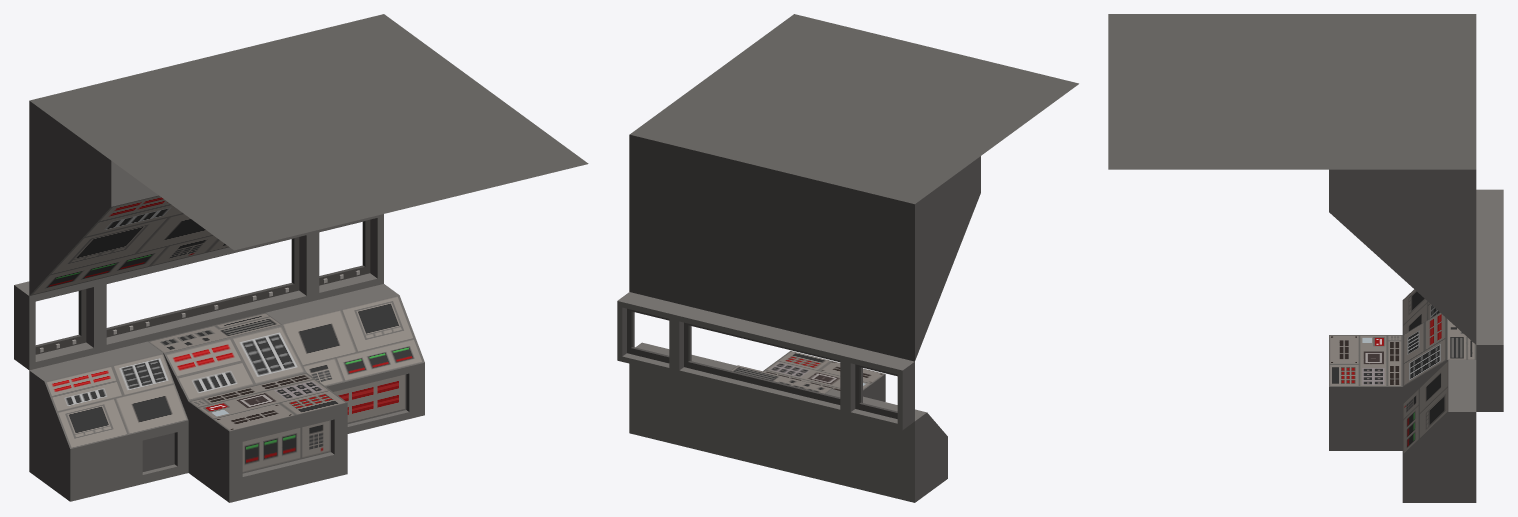
Rendered from KONSOL.fbx.
The picture shows the model from 3 angles, left to right: view 1: azimuth 30°, elevation 25°; view 2: azimuth 150°, elevation 25°; view 3: azimuth 270°, elevation 25°; orthographic projection. The views are drawn at different scales.
Parts seen in each view (by area): view 1: SM_Env_Consoles_01; view 2: SM_Env_Consoles_01; view 3: SM_Env_Consoles_01.
Boxes of the visible parts, x1=… form: SM_Env_Consoles_01: x1=14, y1=14, x2=588, y2=502; SM_Env_Consoles_01: x1=617, y1=14, x2=1078, y2=502; SM_Env_Consoles_01: x1=1108, y1=14, x2=1503, y2=502.
Bounding box in the file's own units: 5 × 5 × 5.37.
1 material, 1 textured.
